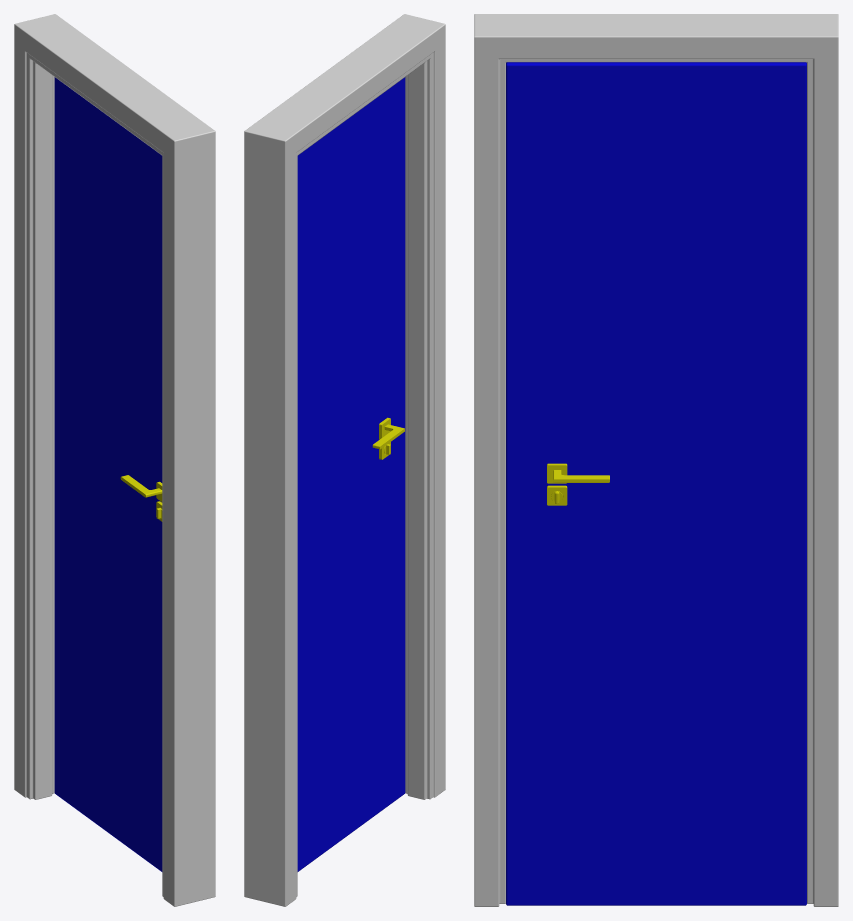
Rendered from Door_WC.fbx.
3 renders of one model, left to right at view 1: azimuth 30°, elevation 25°; view 2: azimuth 150°, elevation 25°; view 3: azimuth 270°, elevation 25°, orthographic. The views are drawn at different scales.
Visible parts, largest first — view 1: Door_Frame.005, Door_Body.006; view 2: Door_Frame.005, Door_Body.006; view 3: Door_Body.006, Door_Frame.005.
Boxes of the visible parts, x1,y1,x2,y2 form: Door_Frame.005: (14,14,215,906); Door_Body.006: (54,77,162,871); Door_Frame.005: (244,14,445,906); Door_Body.006: (297,77,405,871); Door_Body.006: (506,62,806,905); Door_Frame.005: (474,14,838,906).
Size of the model in its own units: 0.1723 by 2.11 by 0.8.
